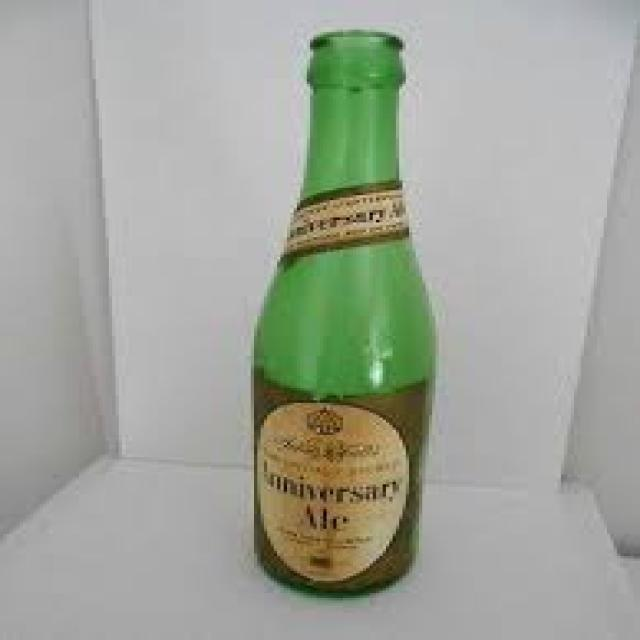Anorganik: (244, 29, 432, 590)
